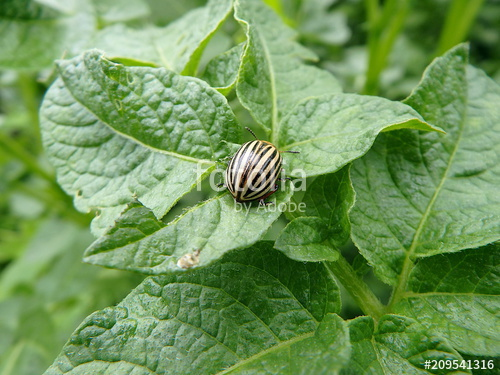hrosc: (227, 130, 286, 205)
